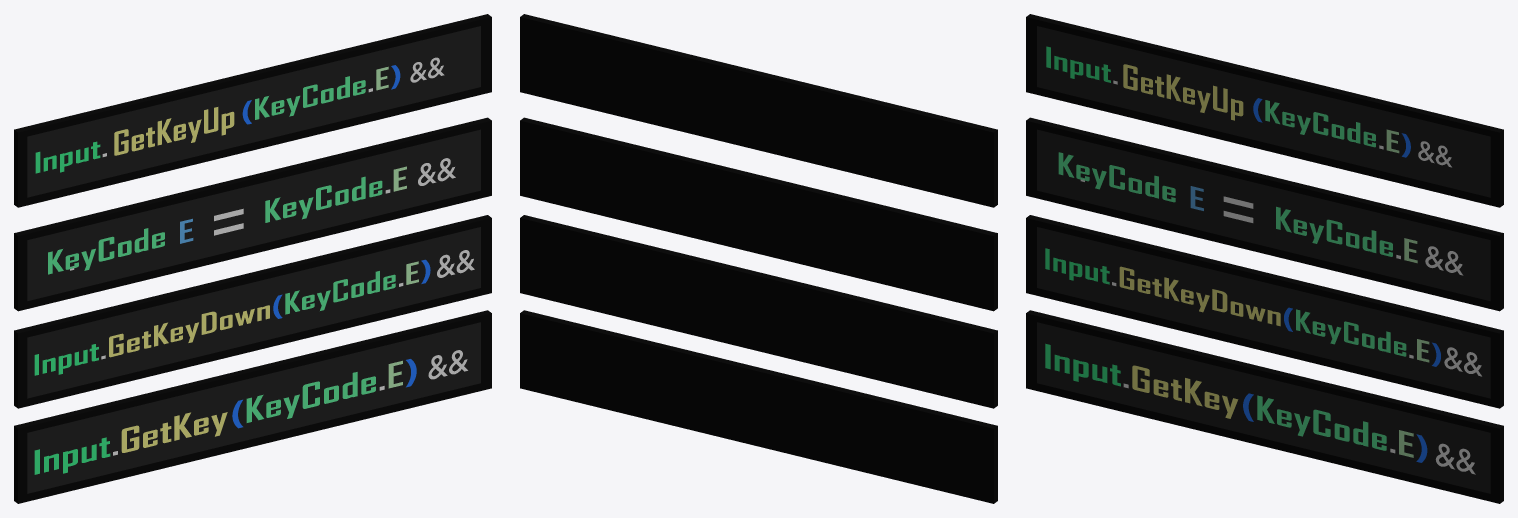
File: IlkSoru.fbx
3 renders of one model, left to right at view 1: azimuth 30°, elevation 25°; view 2: azimuth 150°, elevation 25°; view 3: azimuth 330°, elevation 25°, orthographic.
Parts seen in each view (by area): view 1: Panel.002, Panel.003, Panel.001, Panel, Input.GetKey(KeyCode.E), Input.GetKeyDown(KeyCode.E), Input.GetKeyUp(KeyCode.E), KeyCode E = KeyCode.E; view 2: Panel, Panel.003, Panel.001, Panel.002; view 3: Panel.002, Panel.003, Panel.001, Panel, Input.GetKey(KeyCode.E), Input.GetKeyDown(KeyCode.E), Input.GetKeyUp(KeyCode.E), KeyCode E = KeyCode.E.
Boxes of the visible parts, bbox=[...] form: Panel.002: bbox=[14, 117, 491, 311]; Panel.003: bbox=[14, 14, 491, 207]; Panel.001: bbox=[14, 215, 491, 408]; Panel: bbox=[14, 310, 491, 503]; Input.GetKey(KeyCode.E): bbox=[34, 350, 467, 474]; Input.GetKeyDown(KeyCode.E): bbox=[34, 250, 474, 375]; Input.GetKeyUp(KeyCode.E): bbox=[35, 57, 444, 173]; KeyCode E = KeyCode.E: bbox=[48, 158, 455, 274]; Panel: bbox=[520, 310, 997, 503]; Panel.003: bbox=[520, 14, 997, 207]; Panel.001: bbox=[520, 215, 997, 408]; Panel.002: bbox=[520, 117, 997, 311]; Panel.002: bbox=[1026, 117, 1503, 311]; Panel.003: bbox=[1026, 14, 1503, 207]; Panel.001: bbox=[1026, 215, 1503, 408]; Panel: bbox=[1026, 310, 1503, 503]; Input.GetKey(KeyCode.E): bbox=[1045, 343, 1475, 474]; Input.GetKeyDown(KeyCode.E): bbox=[1045, 248, 1481, 376]; Input.GetKeyUp(KeyCode.E): bbox=[1046, 46, 1451, 167]; KeyCode E = KeyCode.E: bbox=[1058, 152, 1463, 275].
Bounding box in the file's own units: 396 × 297 × 6.38.
